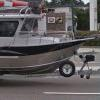Boat: (3, 7, 92, 87)
